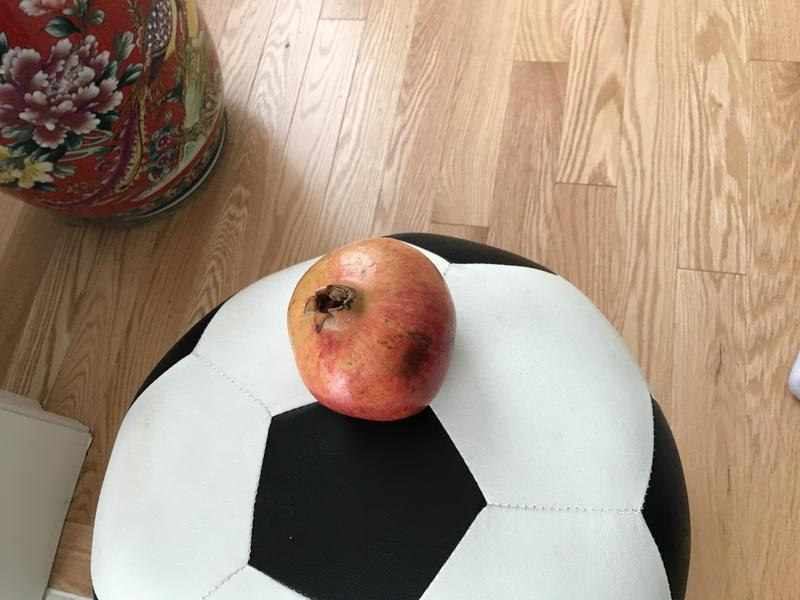pomegranate: (275, 227, 456, 430)
